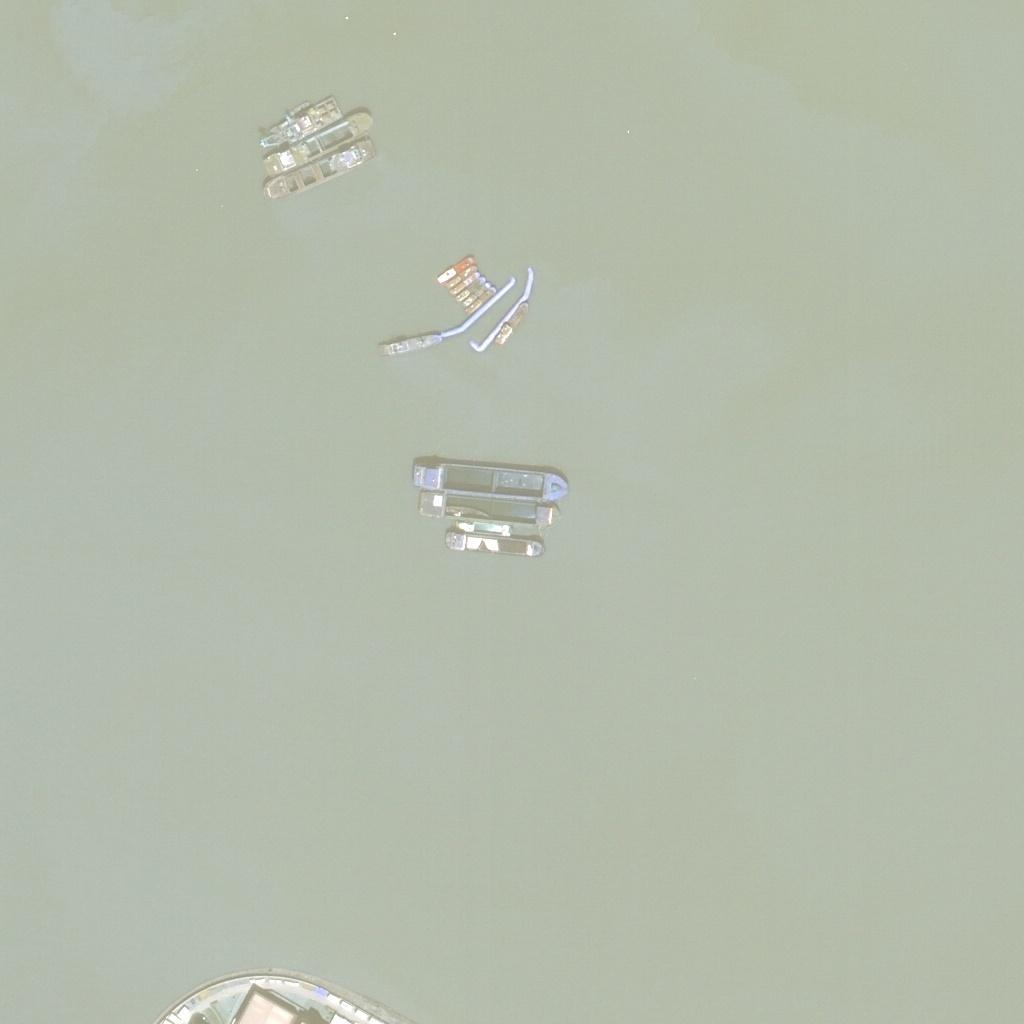ship: (416, 453, 576, 502)
